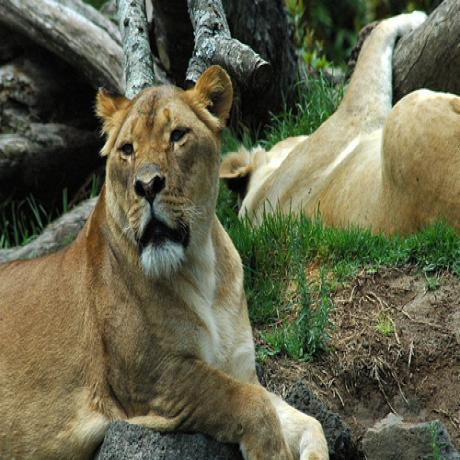Lion: (0, 65, 327, 460)
